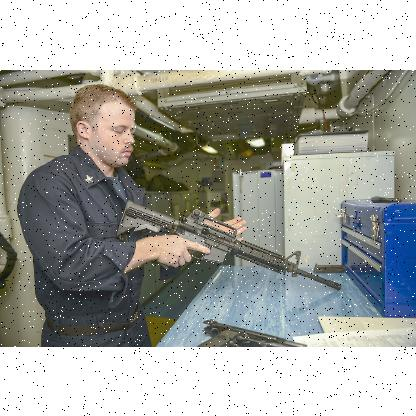gun: (82, 203, 343, 287)
